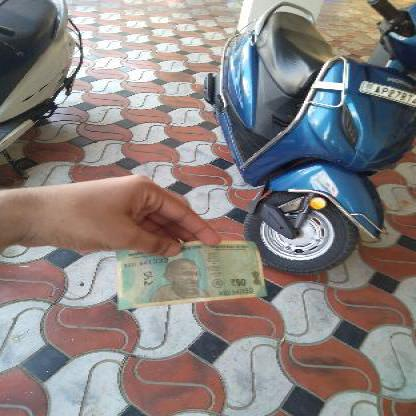New50Front: (120, 240, 264, 308)
